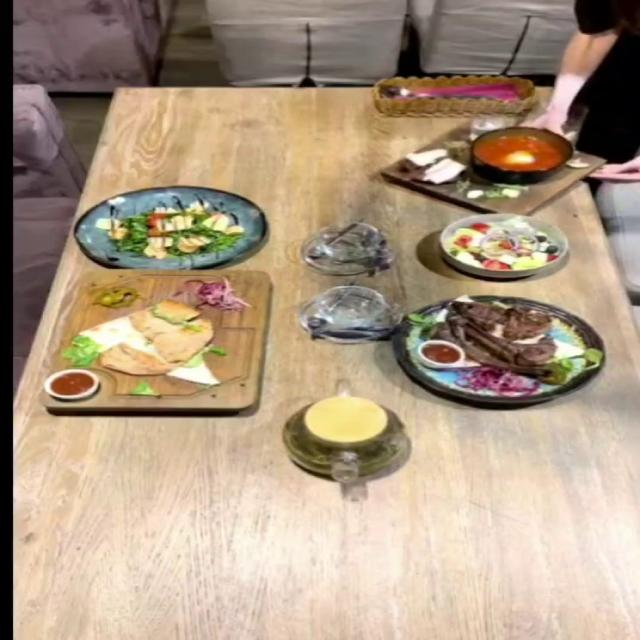meat: (398, 295, 614, 404)
salat: (72, 185, 265, 268), (437, 212, 570, 278)
soup: (374, 114, 605, 214)
tea: (280, 394, 410, 481)
